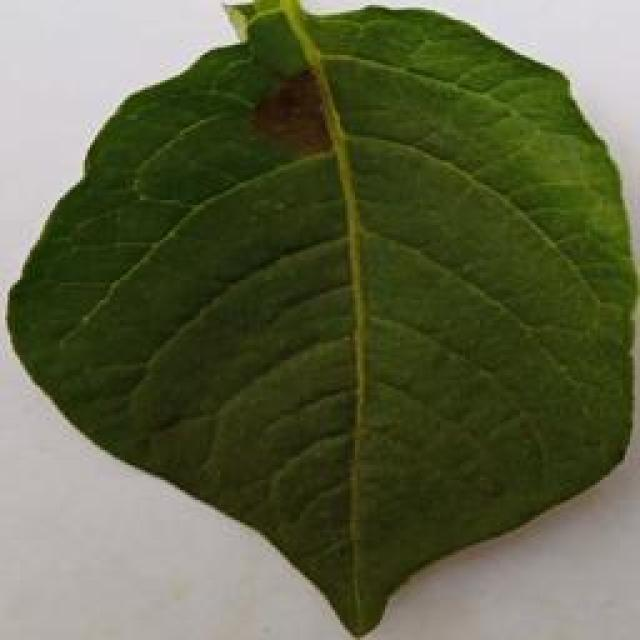Potato_Late_Blight: (19, 23, 637, 640)
